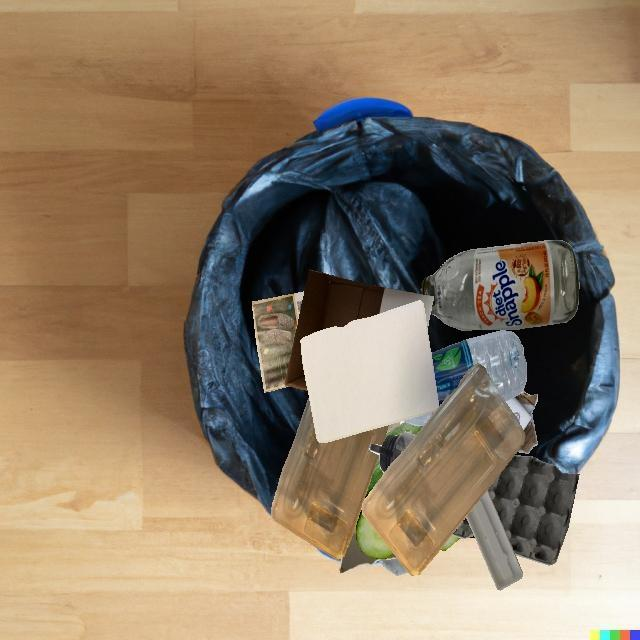biowaste: (396, 433, 468, 537), (378, 486, 446, 556)
cardboard: (285, 269, 434, 391), (487, 455, 579, 565), (356, 433, 387, 559), (505, 390, 538, 454), (339, 532, 380, 573)
glass: (420, 240, 579, 330)
paper: (300, 300, 439, 442), (252, 291, 305, 392)
plastic: (362, 363, 525, 576), (271, 397, 388, 560), (431, 330, 526, 407), (466, 490, 523, 590), (369, 432, 417, 473), (378, 558, 408, 576), (385, 432, 387, 434)
